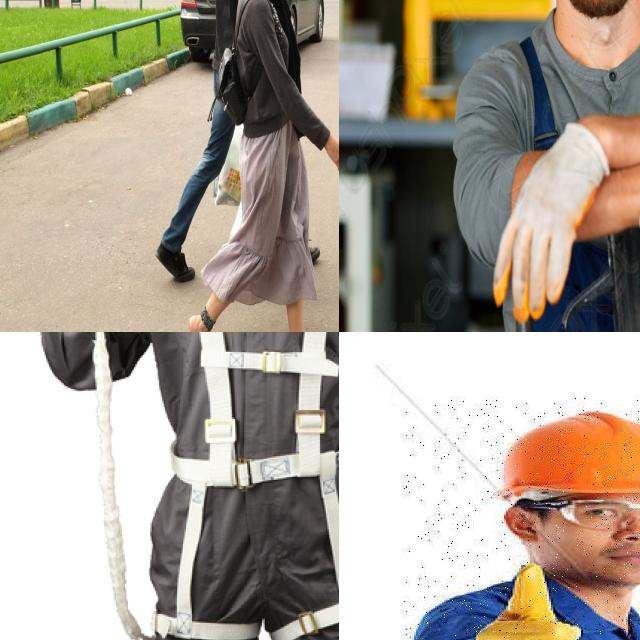Barefoots: (189, 315, 212, 332)
Harness: (151, 332, 339, 640)
No_Ear-Protection: (499, 502, 541, 558)
face_nomask: (554, 514, 640, 589)
glasses: (518, 498, 640, 532)
hand_glove: (476, 564, 581, 640)
head_helmet: (498, 412, 640, 498)
